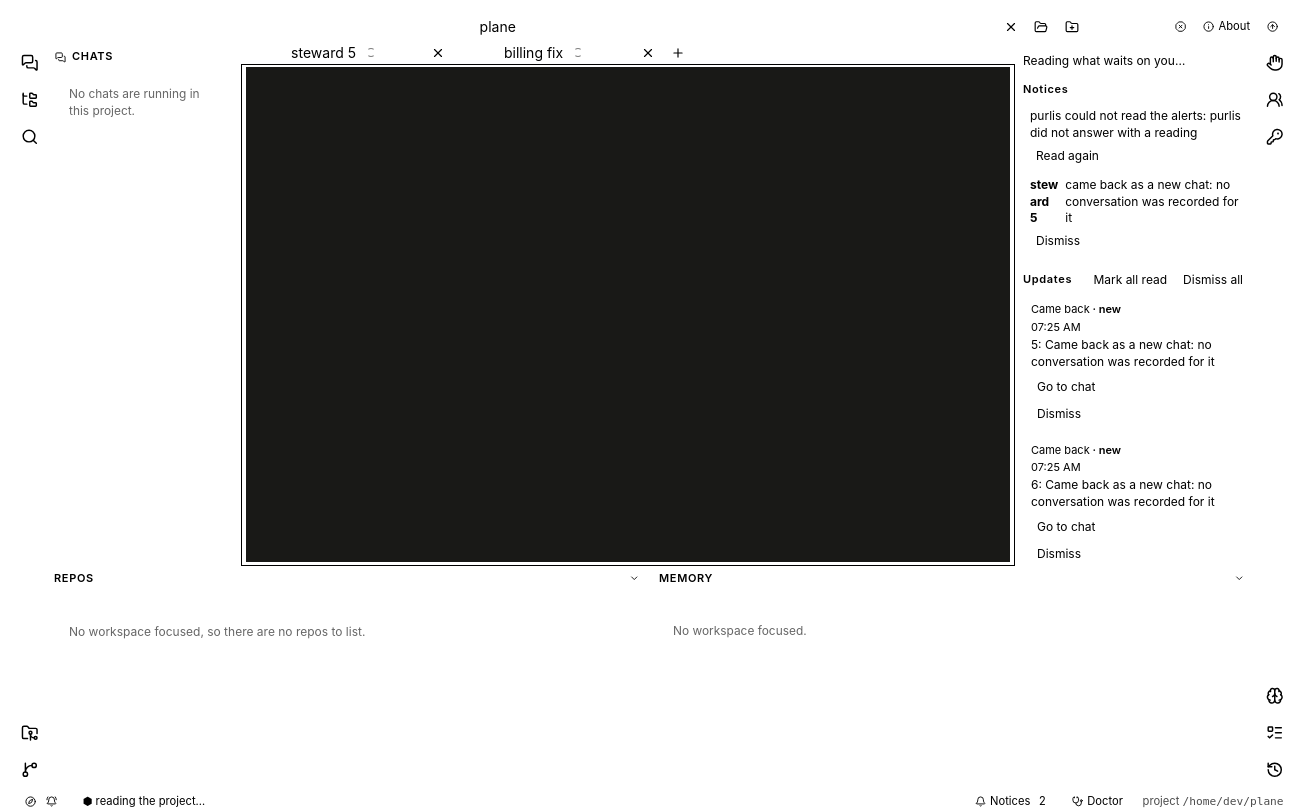
Test case: what the window does with the chats the core already has › names the chat that came back new by what its tab says
Expected: the text "steward 5" below "purlis could not read the alerts:" is shown, [1030, 177, 1058, 225]
What coordinates should you click on to do the following:
click the tab "billing fix"
I would click on:
 (543, 53)
Its box is [451, 41, 635, 64].
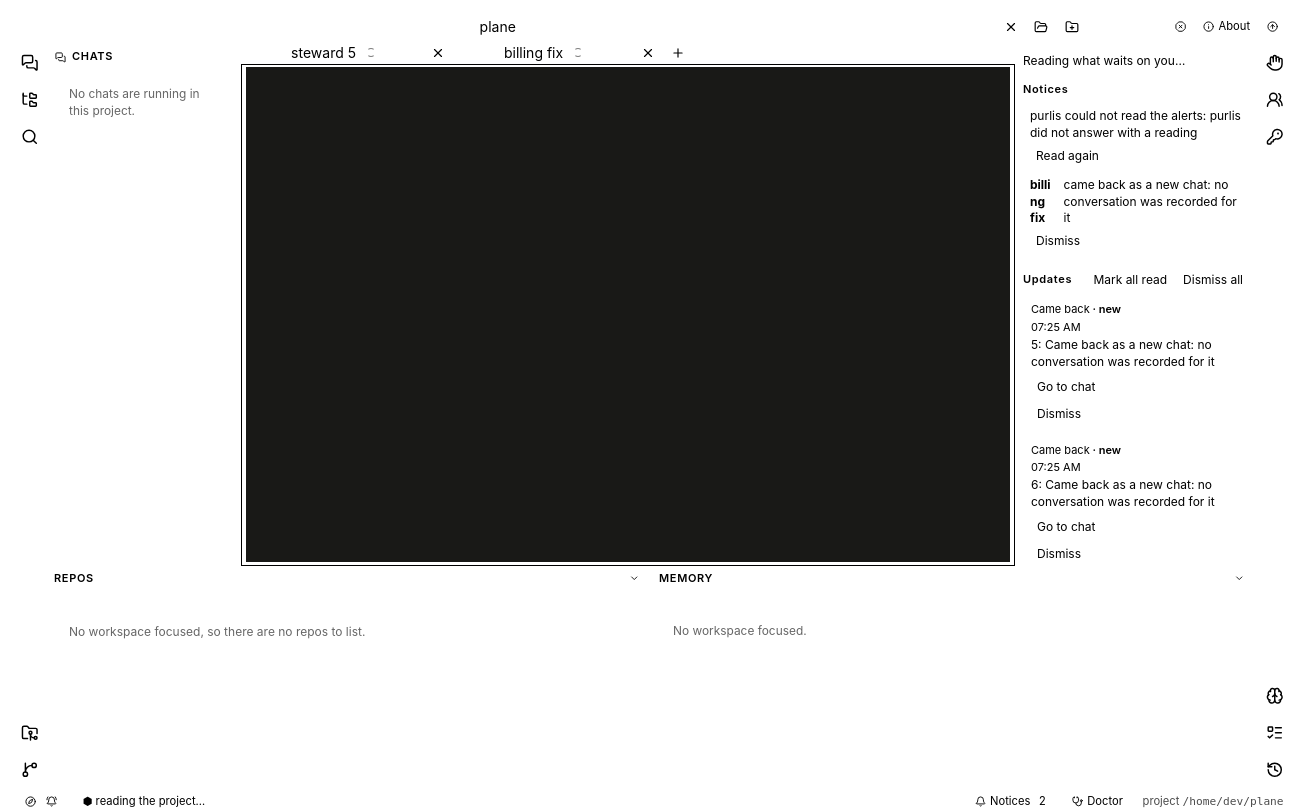
Expected: the text "billing fix" below "purlis could not read the alerts:" is shown, [1030, 177, 1051, 225]
